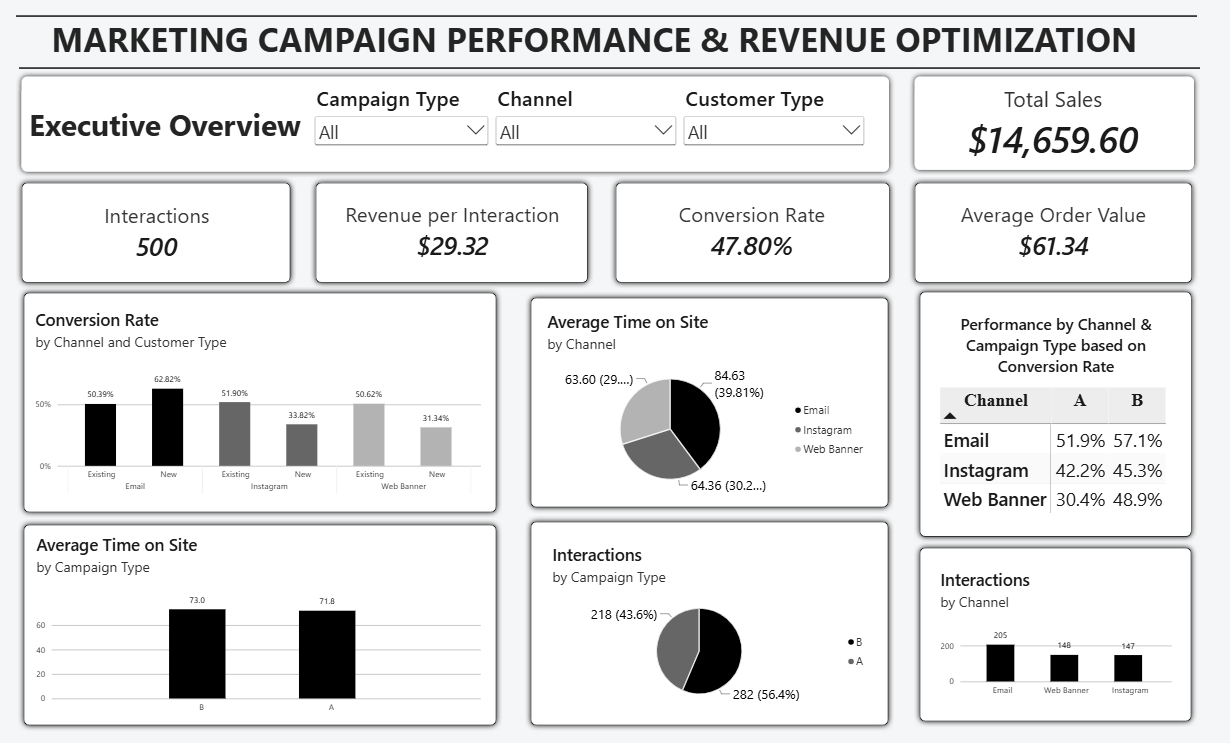

What the dashboard file says about the page in this screenshot:
{"tool":"powerbi","page":{"name":"Page 1","canvas":[1920,1080],"ordinal":0},"visuals":[{"type":"shape","box":[1392.6,787.5,406.7,265.9],"z":0},{"type":"shape","box":[833.5,750.2,530.3,309],"z":1000},{"type":"shape","box":[833.5,428.3,530.3,317.6],"z":2000},{"type":"shape","box":[104.9,754.5,695.6,304.7],"z":3000},{"type":"shape","box":[104.9,421.1,695.6,332],"z":4000},{"type":"shape","box":[525,262.5,407.5,160],"z":5000},{"type":"shape","box":[1385,262.5,415,160],"z":6000},{"type":"shape","box":[955,262.5,410,160],"z":7000},{"type":"shape","box":[1385,110,417.5,150],"z":8000},{"type":"cardVisual","fields":{"Data":["Sum(Raw_Data.Sales($))"]},"box":[1437.1,126.5,311.9,120.7],"z":9000},{"type":"shape","box":[102.5,110,1262.5,152.5],"z":10000},{"type":"shape","box":[1392.6,420.3,407,368.4],"z":11000},{"type":"slicer","fields":{"Values":["Raw_Data.Campaign_type"]},"box":[526,130,260,112],"z":12000},{"type":"shape","box":[106.4,74.6,1696.9,63.4],"z":13000},{"type":"shape","box":[102.4,0.6,1696.9,63.4],"z":14000},{"type":"textbox","box":[120,157.5,434,58],"z":15000},{"type":"slicer","fields":{"Values":["Raw_Data.Channel"]},"box":[786,130,270,96],"z":16000},{"type":"textbox","box":[106,32,1654,70],"z":17000},{"type":"shape","box":[102.5,262.5,402.5,160],"z":18000},{"type":"cardVisual","fields":{"Data":["Raw_Data.Total_interactions"]},"box":[192.5,280,224,124],"z":19000},{"type":"cardVisual","fields":{"Data":["Raw_Data.Revenue_per_interaction"]},"box":[552.5,277.5,355,127.5],"z":20000},{"type":"cardVisual","fields":{"Data":["Raw_Data.Average_Order_Value"]},"box":[1427.5,277.5,332.5,127.5],"z":21000},{"type":"cardVisual","fields":{"Data":["Raw_Data.Conversion Rate"]},"box":[1025,277.5,270,127.5],"z":22000},{"type":"slicer","fields":{"Values":["Raw_Data.Customer Type"]},"box":[1056,130,270,96],"z":23000},{"type":"clusteredColumnChart","fields":{"Category":["Raw_Data.Channel","Raw_Data.Customer Type"],"Y":["Raw_Data.Conversion Rate"]},"box":[113.5,436.9,672.6,303.2],"z":24000},{"type":"pivotTable","title":"Performance by Channel & Campaign Type based on Conversion Rate","fields":{"Columns":["Raw_Data.Campaign Type"],"Rows":["Raw_Data.Channel"],"Values":["Raw_Data.Conversion Rate"]},"box":[1413.8,445.6,365,317.6],"z":25000},{"type":"clusteredColumnChart","fields":{"Category":["Raw_Data.Campaign Type"],"Y":["Raw_Data.Average Time on Site"]},"box":[115,760.2,671.1,293.2],"z":26000},{"type":"pieChart","fields":{"Category":["Raw_Data.Channel"],"Y":["Raw_Data.Average Time on Site"]},"box":[849.3,439.8,495.8,296],"z":27000},{"type":"pieChart","fields":{"Category":["Raw_Data.Campaign Type"],"Y":["Raw_Data.Interactions"]},"box":[856.5,774.6,488.6,264.4],"z":28000},{"type":"clusteredColumnChart","fields":{"Category":["Raw_Data.Channel"],"Y":["Raw_Data.Interactions"]},"box":[1414.1,810.5,365,218.4],"z":29000}]}

Visuals, with their boxes in screenshot pixels (x1, y1, x2, y2):
shape: BBox(907, 532, 1183, 712)
shape: BBox(528, 506, 888, 716)
shape: BBox(528, 288, 888, 503)
shape: BBox(33, 509, 505, 716)
shape: BBox(33, 283, 505, 508)
shape: BBox(318, 175, 595, 284)
shape: BBox(902, 175, 1184, 284)
shape: BBox(610, 175, 888, 284)
shape: BBox(902, 71, 1186, 173)
cardVisual - Sum(Raw_Data.Sales($)): BBox(937, 83, 1149, 165)
shape: BBox(31, 71, 888, 175)
shape: BBox(907, 282, 1184, 532)
slicer - Raw_Data.Campaign_type: BBox(319, 85, 495, 161)
shape: BBox(34, 47, 1186, 91)
shape: BBox(31, 0, 1183, 40)
textbox: BBox(43, 104, 338, 143)
slicer - Raw_Data.Channel: BBox(495, 85, 679, 150)
textbox: BBox(34, 19, 1157, 66)
shape: BBox(31, 175, 304, 284)
cardVisual - Raw_Data.Total_interactions: BBox(92, 187, 244, 271)
cardVisual - Raw_Data.Revenue_per_interaction: BBox(337, 185, 578, 272)
cardVisual - Raw_Data.Average_Order_Value: BBox(931, 185, 1157, 272)
cardVisual - Raw_Data.Conversion Rate: BBox(658, 185, 841, 272)
slicer - Raw_Data.Customer Type: BBox(679, 85, 862, 150)
clusteredColumnChart - Raw_Data.Channel x Raw_Data.Customer Type: BBox(39, 293, 495, 499)
"Performance by Channel & Campaign Type based on Conversion Rate" pivotTable: BBox(922, 299, 1169, 515)
clusteredColumnChart - Raw_Data.Campaign Type x Raw_Data.Average Time on Site: BBox(40, 513, 495, 712)
pieChart - Raw_Data.Channel x Raw_Data.Average Time on Site: BBox(538, 295, 875, 496)
pieChart - Raw_Data.Campaign Type x Raw_Data.Interactions: BBox(543, 523, 875, 702)
clusteredColumnChart - Raw_Data.Channel x Raw_Data.Interactions: BBox(922, 547, 1170, 695)
